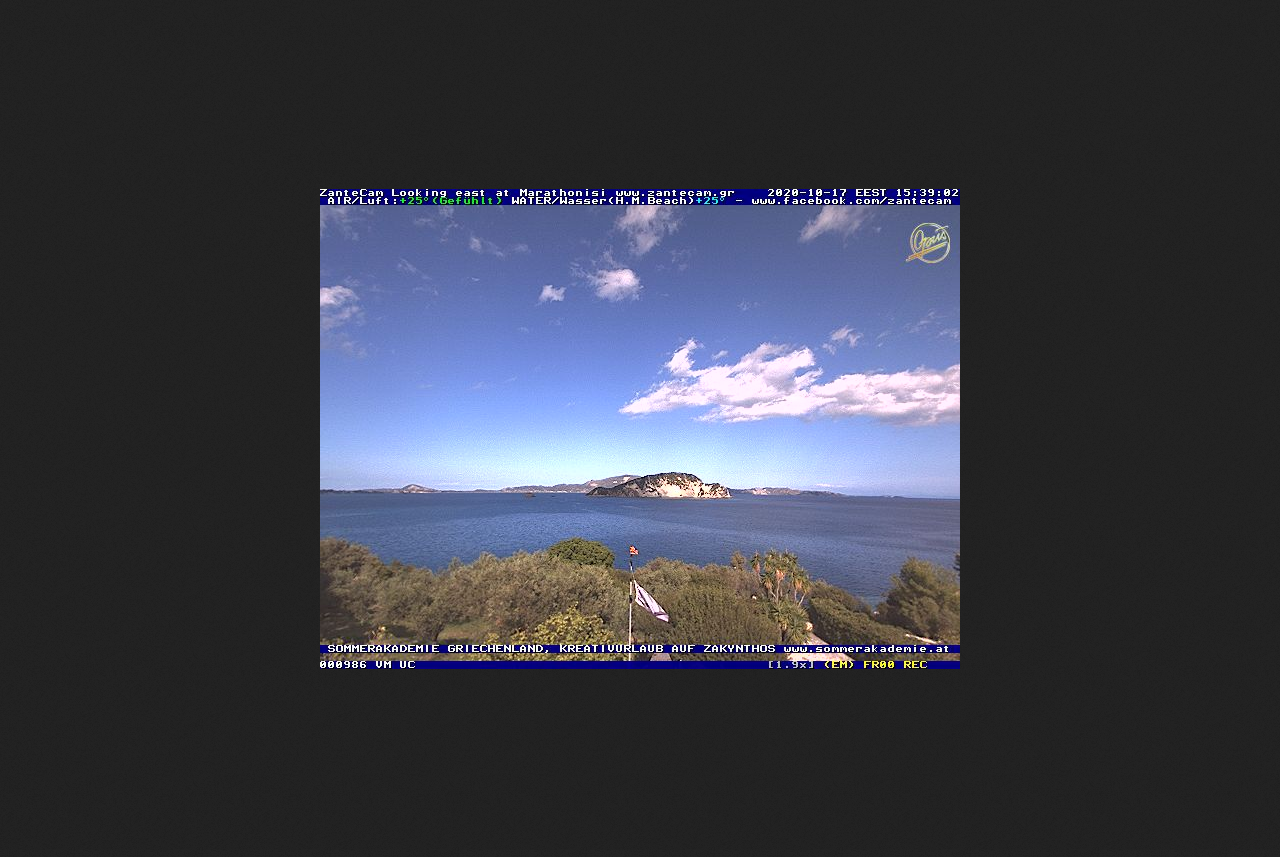maybe: (631, 570, 673, 625)
